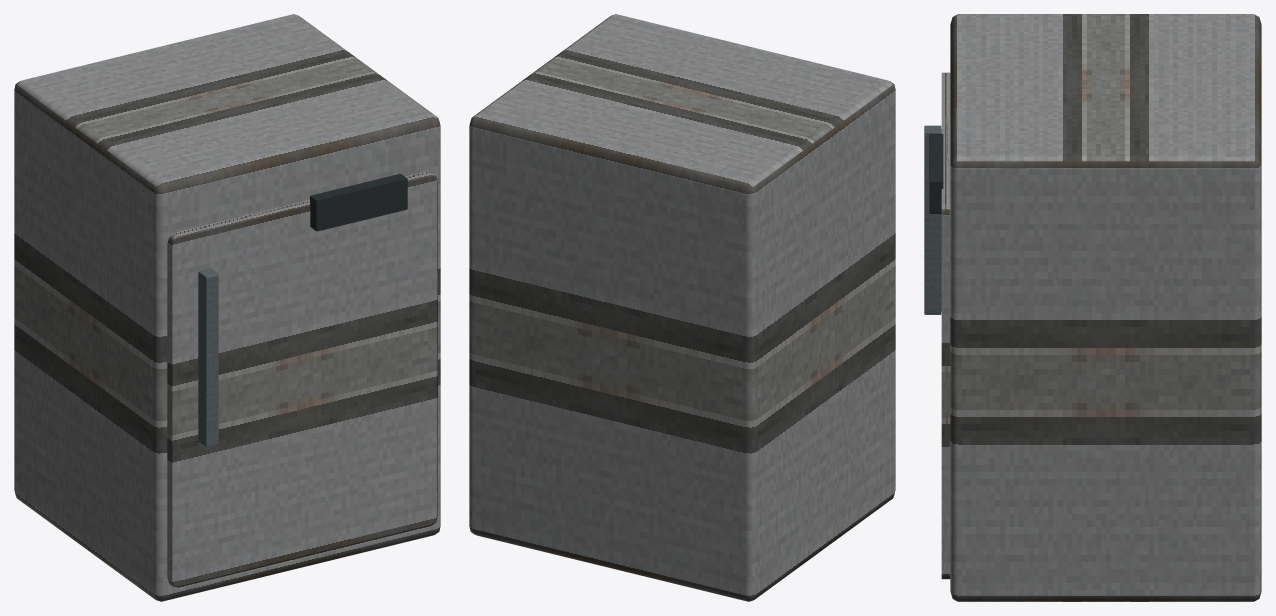
File: dishwasher.glb
3 renders of one model, left to right at view 1: azimuth 30°, elevation 25°; view 2: azimuth 150°, elevation 25°; view 3: azimuth 270°, elevation 25°, orthographic. The views are drawn at different scales.
Parts seen in each view (by area): view 1: case, front, pull, display; view 2: case; view 3: case, front, pull, display.
Boxes of the visible parts, x1,y1,x2,y2 form: case: (14,14,440,601); front: (167,171,437,588); pull: (198,268,218,448); display: (310,174,407,231); case: (469,14,895,601); case: (950,14,1261,601); front: (941,72,950,579); pull: (924,125,941,314); display: (929,134,943,213).
Size of the model in its own units: 0.6 by 0.84 by 0.5753.
Materials: 3 (3 with a texture image).
